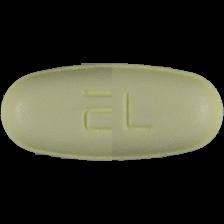55154-0109: (0, 0, 224, 224)
